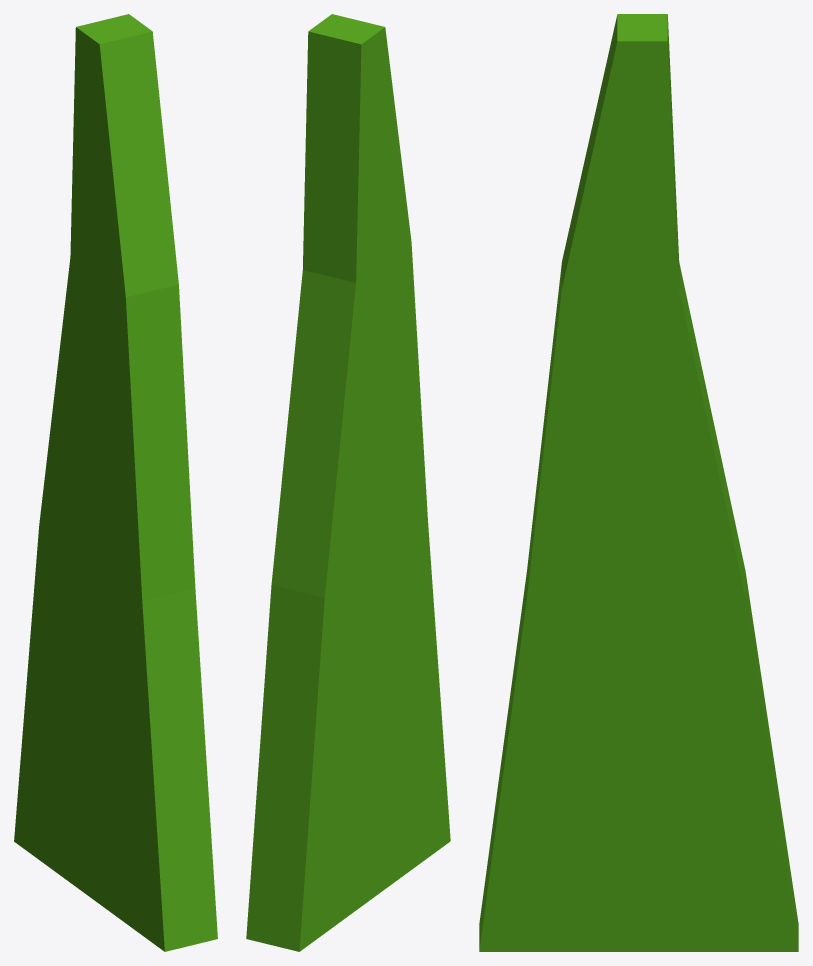
Rendered from GrassSingle_c_03.fbx.
The picture shows the model from 3 angles, left to right: view 1: azimuth 30°, elevation 25°; view 2: azimuth 150°, elevation 25°; view 3: azimuth 270°, elevation 25°; orthographic projection. The views are drawn at different scales.
Parts seen in each view (by area): view 1: GrassSingle_c_03; view 2: GrassSingle_c_03; view 3: GrassSingle_c_03.
Boxes of the visible parts, bbox=[...] form: GrassSingle_c_03: bbox=[14, 14, 217, 951]; GrassSingle_c_03: bbox=[246, 14, 450, 951]; GrassSingle_c_03: bbox=[479, 14, 798, 951].
Bounding box in the file's own units: 0.4098 × 6.34 × 2.02.
